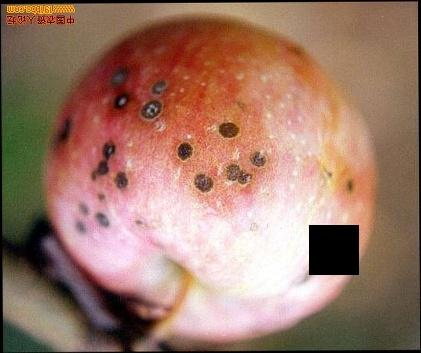rotten apple: (47, 17, 378, 342)
